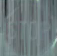Stop: (4, 0, 52, 52)
